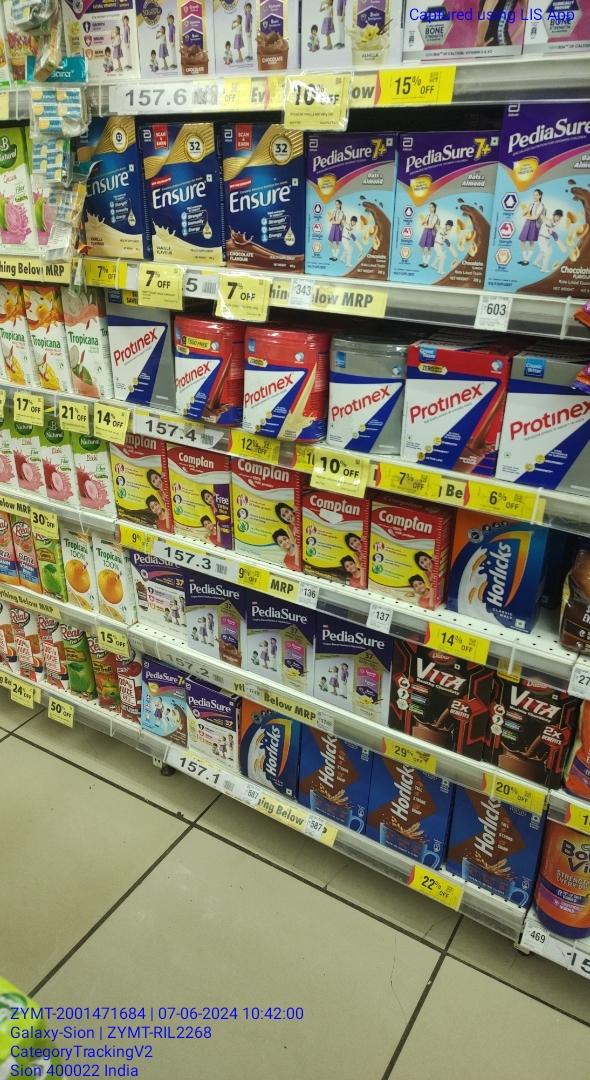HORLICK_CLASSIC_MALT_500_G_PACK: (452, 517, 539, 635), (240, 704, 297, 790)
PEDIASURE_7_PLUS_CHOCOLATE_400_G_PACK: (141, 668, 189, 737)
PEDIASURE_CHOCOLATE_500_G_PACK: (189, 568, 244, 665)
PEDIASURE_VANILLA_500_G_PACK: (318, 617, 391, 720), (250, 591, 313, 688)
PROTINEX_CHOCOLATE_400_G_JAR: (244, 336, 328, 442), (175, 322, 244, 415)
PROTINEX_ORIGINAL_400_G_JAR: (327, 350, 403, 443)
